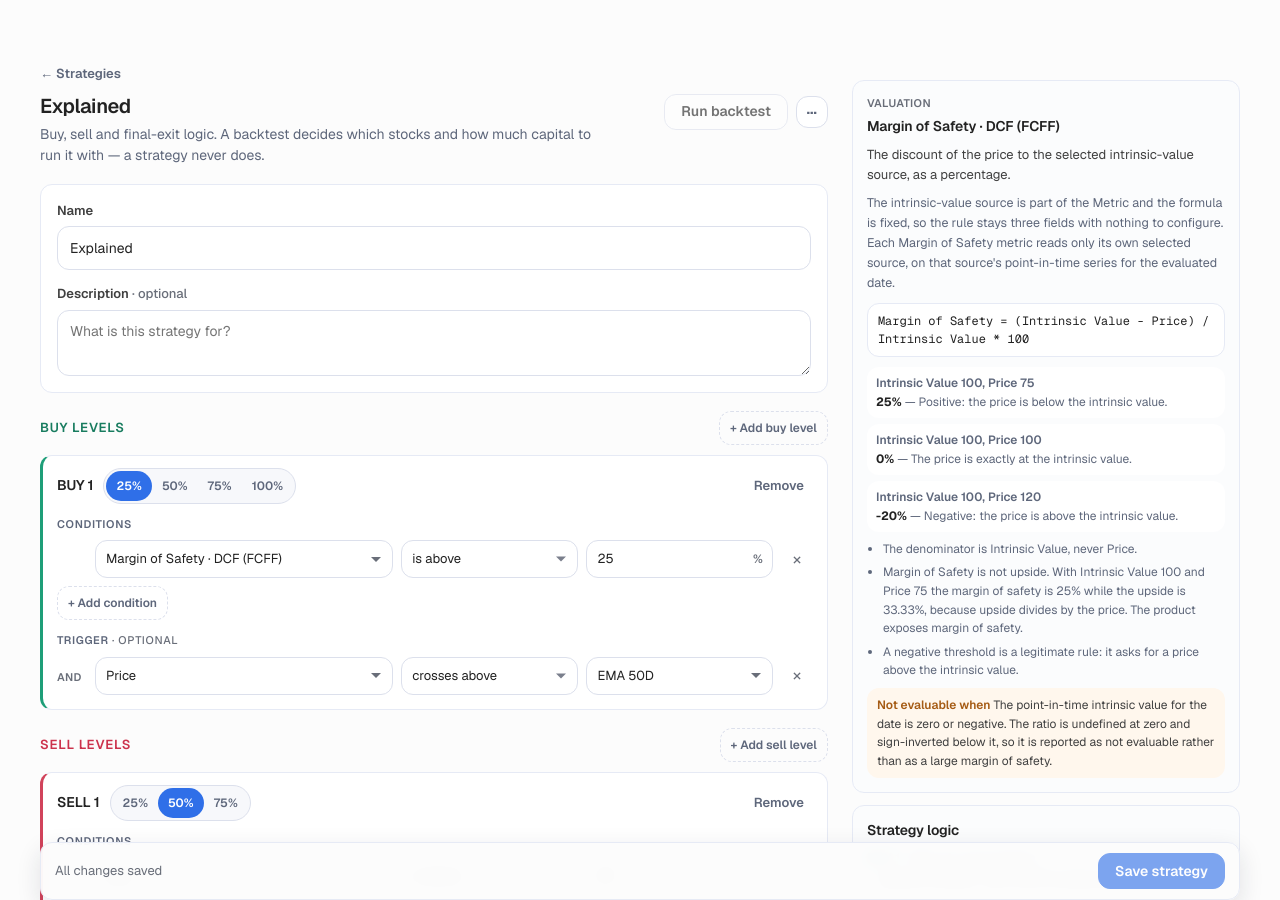
Scenario: explanation panel › explains the series chosen as the Value, wherever the explanation is placed
Click the button with test id "value-control" showing "EMA 50D" at (680, 676), box [586,656,773,694]
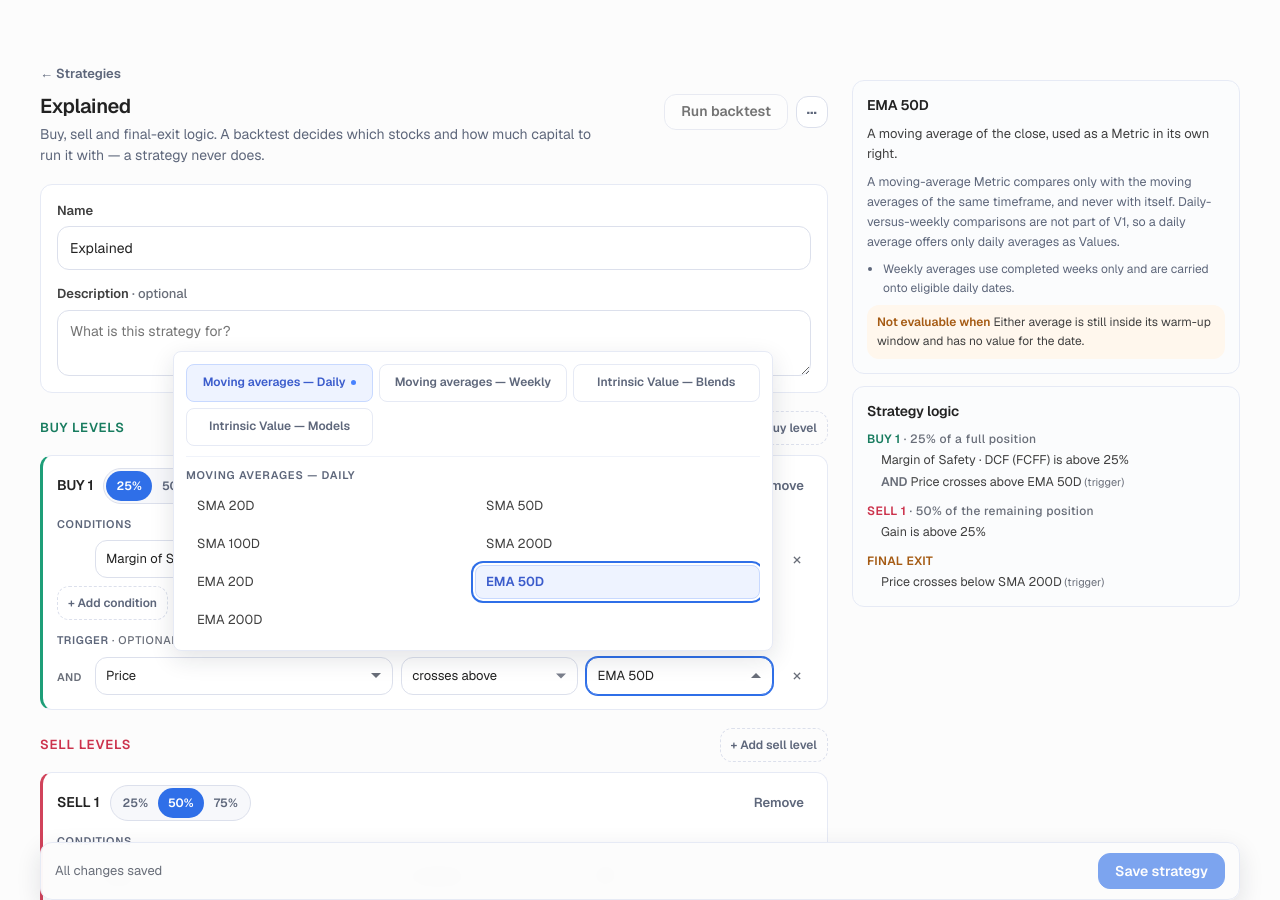
Expected: the heading "EMA 50D" is shown, [867,96,929,114]
Expected: the element with test id "explanation-panel" shows "A moving average of the close, used as a Metric in its own right.", [867,125,1209,162]
Click the button "Moving averages — Daily" at (280, 382), box [186,364,373,402]
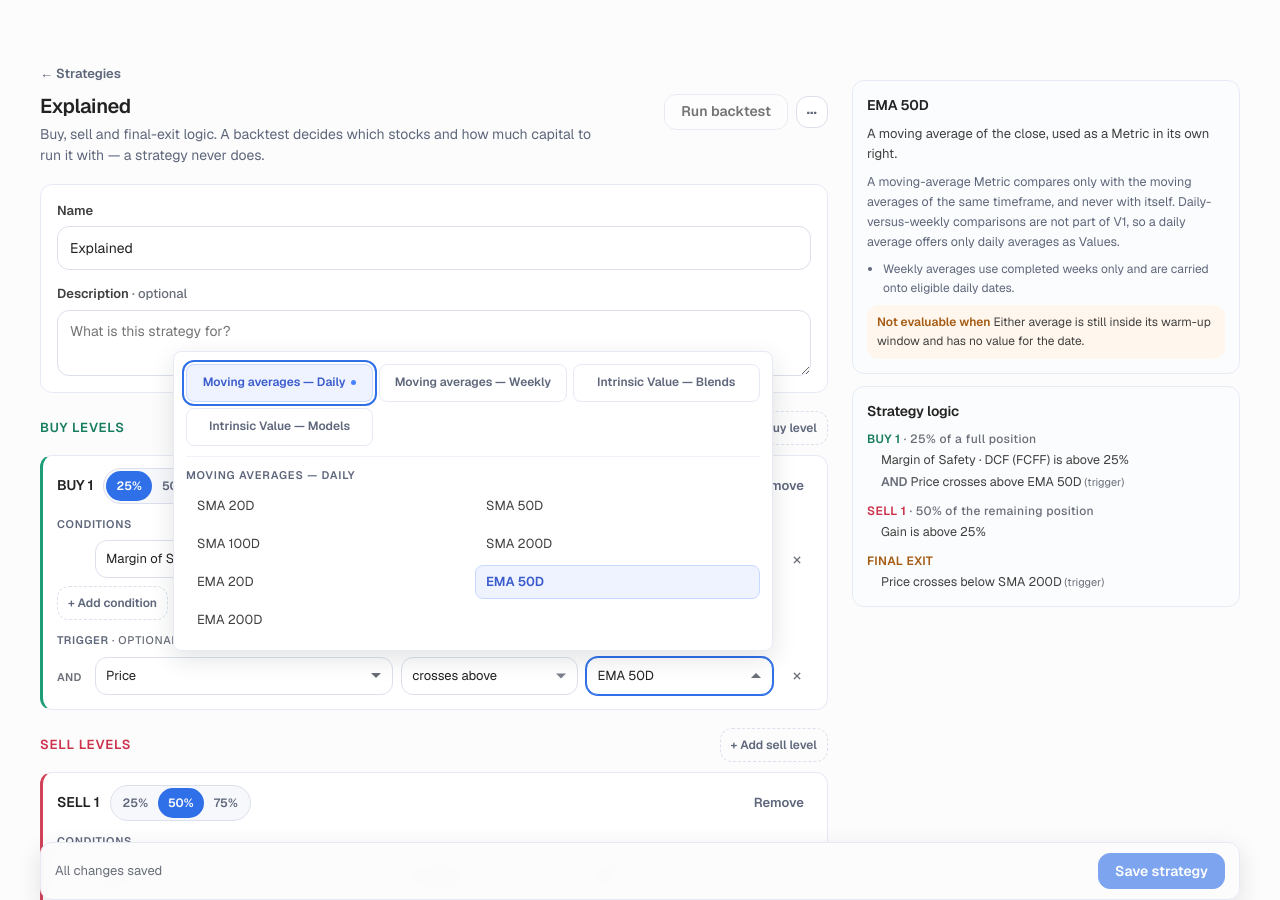
Click the button "SMA 200D" at (519, 543), box [475,527,760,561]
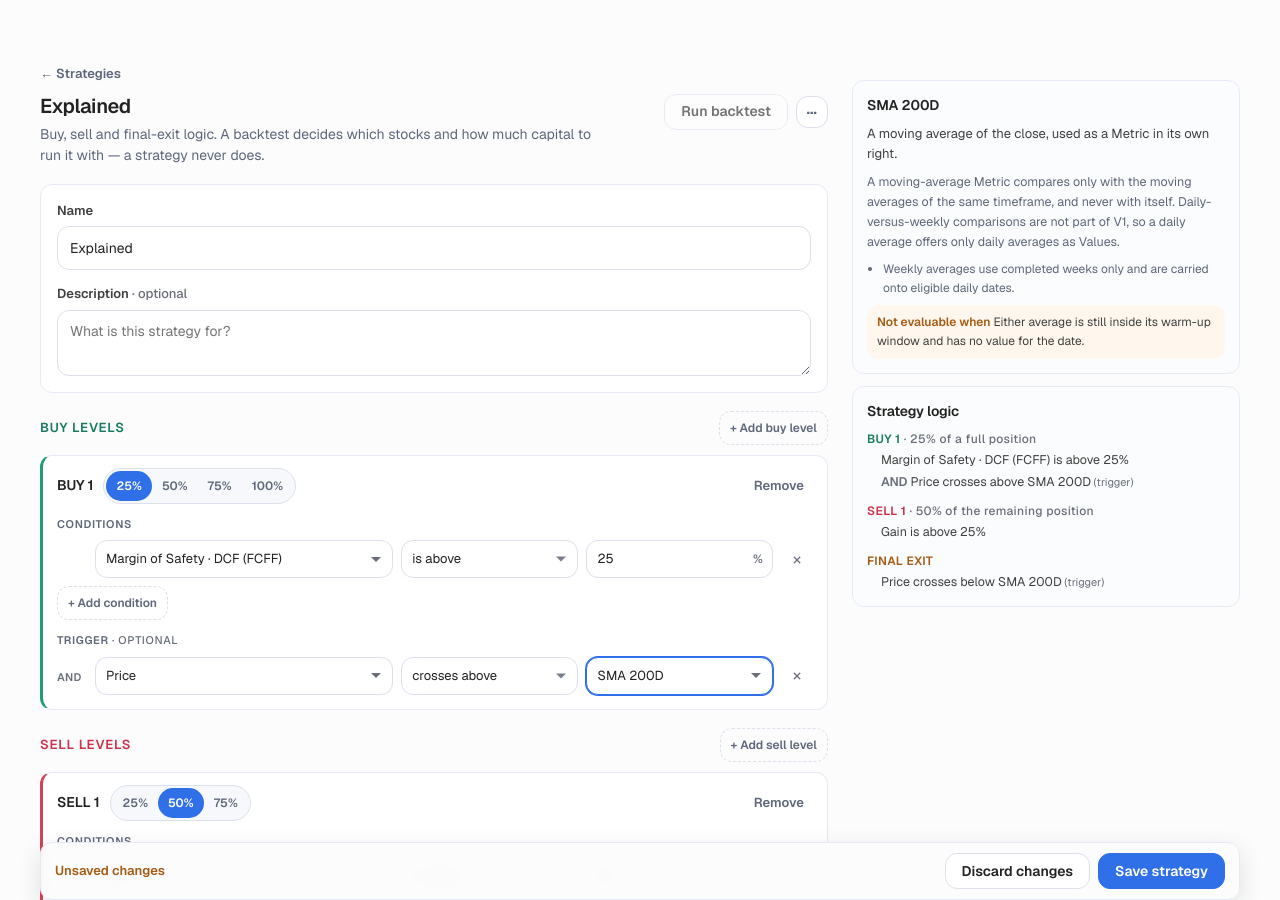
Expected: the heading "SMA 200D" is shown, [867,96,939,114]
